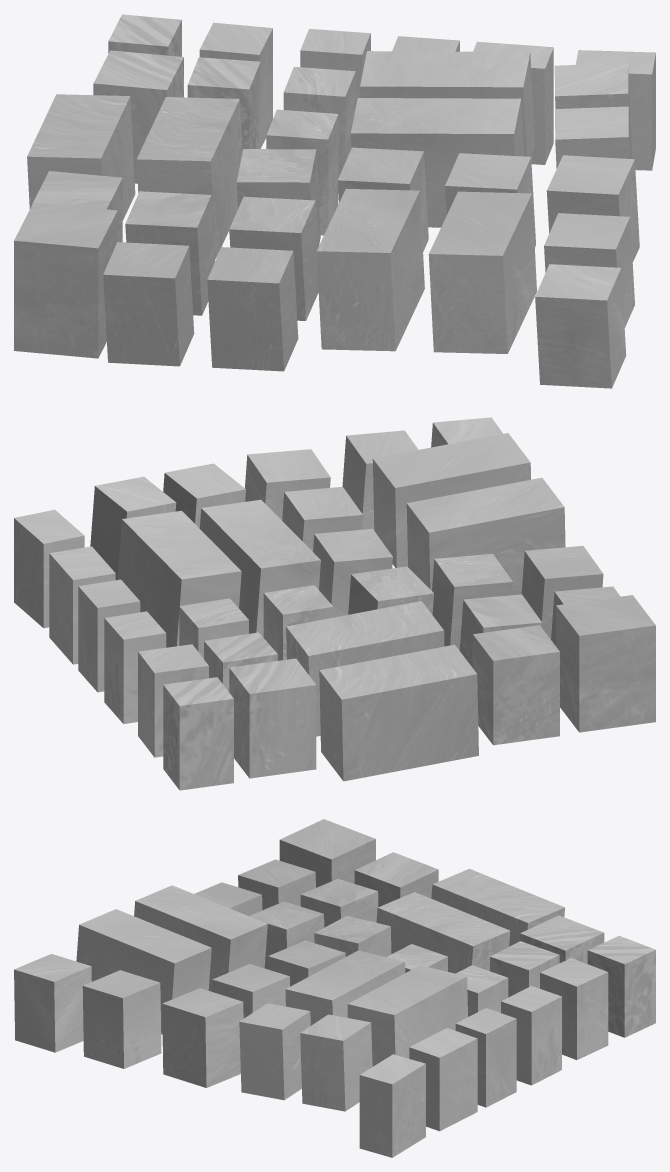
The model's file is blanc8.FBX.
The picture shows the model from 3 angles, top to bottom: view 1: azimuth 30°, elevation 25°; view 2: azimuth 150°, elevation 25°; view 3: azimuth 270°, elevation 25°; orthographic projection. The views are drawn at different scales.
Visible parts, largest first — view 1: Boîte059, Boîte058, Boîte032, Boîte047, Boîte057, Boîte054, Boîte061, Boîte045, Boîte046, Boîte034, Boîte056, Boîte055 (+18 smaller); view 2: Boîte034, Boîte032, Boîte058, Boîte046, Boîte059, Boîte035, Boîte033, Boîte047, Boîte045, Boîte036, Boîte038, Boîte041 (+18 smaller); view 3: Boîte059, Boîte046, Boîte053, Boîte060, Boîte058, Boîte061, Boîte045, Boîte038, Boîte051, Boîte052, Boîte039, Boîte036 (+18 smaller).
Boxes of the visible parts, bbox=[...] form: Boîte059: bbox=[428, 191, 536, 353]; Boîte058: bbox=[316, 188, 424, 351]; Boîte032: bbox=[14, 203, 117, 358]; Boîte047: bbox=[350, 98, 523, 227]; Boîte057: bbox=[207, 247, 298, 371]; Boîte054: bbox=[103, 242, 194, 366]; Boîte061: bbox=[535, 264, 626, 388]; Boîte045: bbox=[136, 97, 242, 259]; Boîte046: bbox=[360, 51, 534, 161]; Boîte034: bbox=[27, 94, 135, 220]; Boîte056: bbox=[229, 196, 318, 320]; Boîte055: bbox=[125, 191, 214, 315]; Boîte034: bbox=[319, 644, 478, 781]; Boîte032: bbox=[556, 595, 655, 732]; Boîte058: bbox=[406, 477, 565, 595]; Boîte046: bbox=[117, 510, 241, 647]; Boîte059: bbox=[372, 433, 530, 567]; Boîte035: bbox=[229, 658, 316, 778]; Boîte033: bbox=[473, 625, 559, 745]; Boîte047: bbox=[199, 499, 320, 637]; Boîte045: bbox=[286, 601, 444, 736]; Boîte036: bbox=[163, 677, 233, 790]; Boîte038: bbox=[14, 509, 84, 628]; Boîte041: bbox=[104, 611, 166, 724]; Boîte059: bbox=[76, 909, 211, 1034]; Boîte046: bbox=[347, 965, 467, 1066]; Boîte053: bbox=[162, 988, 243, 1087]; Boîte060: bbox=[82, 970, 161, 1068]; Boîte058: bbox=[134, 885, 267, 991]; Boîte061: bbox=[14, 954, 91, 1052]; Boîte045: bbox=[376, 892, 510, 973]; Boîte038: bbox=[359, 1054, 425, 1157]; Boîte051: bbox=[300, 1014, 372, 1111]; Boîte052: bbox=[239, 1003, 310, 1100]; Boîte039: bbox=[409, 1028, 477, 1131]; Boîte036: bbox=[587, 935, 655, 1037].
Bounding box in the file's own units: 24.13 × 4.59 × 25.57.
1 material, 1 textured.
